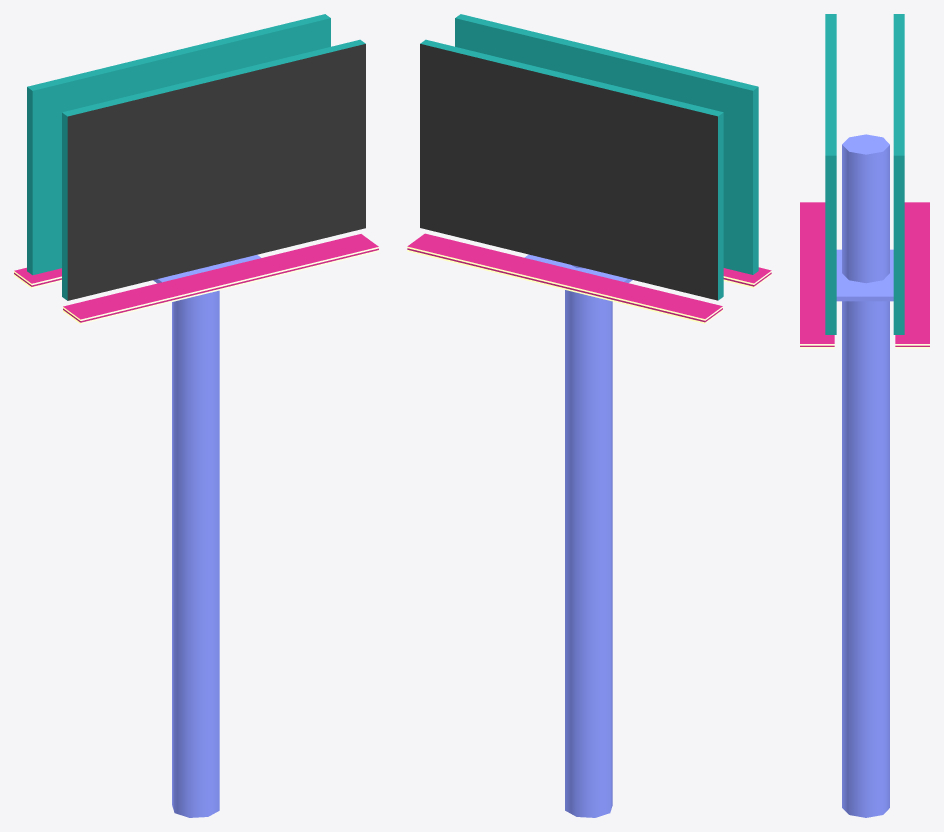
The model's file is billboard.glb.
3 renders of one model, left to right at view 1: azimuth 30°, elevation 25°; view 2: azimuth 150°, elevation 25°; view 3: azimuth 270°, elevation 25°, orthographic. The views are drawn at different scales.
Visible parts, largest first — view 1: billboard; view 2: billboard; view 3: billboard.
Part boxes in pixels (<box>): billboard: <box>14,14,378,817</box>; billboard: <box>407,14,771,817</box>; billboard: <box>800,14,929,817</box>.
Size of the model in its own units: 1.53 by 3.63 by 0.591.
Materials: 1 (1 with a texture image).
